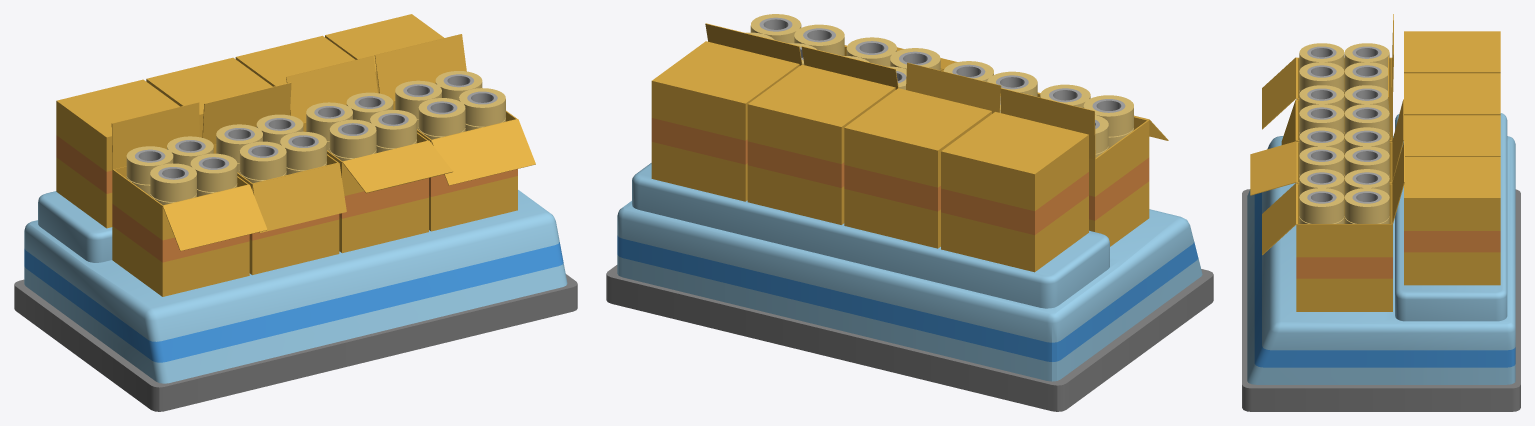
Rendered from bantlarKutu.fbx.
3 renders of one model, left to right at view 1: azimuth 30°, elevation 25°; view 2: azimuth 150°, elevation 25°; view 3: azimuth 270°, elevation 25°, orthographic. The views are drawn at different scales.
Parts seen in each view (by area): view 1: Cube, kutu.005, kutu.007, kutu.003, sagKapak.005, sagKapak.006, sagKapak.008, kutu.008, kutu.006, solKapak.008, sagKapak.007, solKapak.007 (+18 smaller); view 2: Cube, kutu.003, kutu.002, kutu.001, kutu.004, kutu.005, solKapak.006, solKapak.003, solKapak.002, solKapak.005, solKapak.004, solKapak.001 (+10 smaller); view 3: Cube, kutu.008, kutu.004, bant.016, bant.017, solKapak.003, sagKapak.003, sagKapak.002, solKapak.002, solKapak.004, sagKapak.004, solKapak.001 (+17 smaller).
Part boxes in pixels (bbox=[...]): Cube: bbox=[14, 190, 577, 411]; kutu.005: bbox=[112, 166, 249, 296]; kutu.007: bbox=[303, 122, 428, 253]; kutu.003: bbox=[56, 101, 112, 228]; sagKapak.005: bbox=[162, 184, 267, 251]; sagKapak.006: bbox=[252, 163, 346, 232]; sagKapak.008: bbox=[431, 119, 535, 185]; kutu.008: bbox=[393, 100, 517, 231]; kutu.006: bbox=[213, 144, 339, 274]; solKapak.008: bbox=[374, 34, 466, 100]; sagKapak.007: bbox=[342, 140, 452, 193]; solKapak.007: bbox=[286, 56, 377, 122]; Cube: bbox=[606, 163, 1213, 411]; kutu.003: bbox=[941, 129, 1088, 272]; kutu.002: bbox=[747, 88, 895, 224]; kutu.001: bbox=[844, 111, 991, 248]; kutu.004: bbox=[651, 64, 799, 201]; kutu.005: bbox=[1089, 116, 1149, 246]; solKapak.006: bbox=[906, 62, 1001, 113]; solKapak.003: bbox=[652, 61, 771, 104]; solKapak.002: bbox=[748, 84, 868, 127]; solKapak.005: bbox=[1000, 88, 1095, 159]; solKapak.004: bbox=[942, 131, 1061, 174]; solKapak.001: bbox=[844, 108, 964, 150]; Cube: bbox=[1242, 113, 1520, 411]; kutu.008: bbox=[1296, 183, 1392, 311]; kutu.004: bbox=[1404, 190, 1500, 285]; bant.016: bbox=[1299, 169, 1344, 223]; bant.017: bbox=[1344, 169, 1389, 223]; solKapak.003: bbox=[1452, 157, 1500, 198]; sagKapak.003: bbox=[1404, 157, 1452, 198]; sagKapak.002: bbox=[1404, 115, 1452, 156]; solKapak.002: bbox=[1452, 115, 1500, 156]; solKapak.004: bbox=[1452, 31, 1500, 72]; sagKapak.004: bbox=[1404, 31, 1452, 72]; solKapak.001: bbox=[1452, 73, 1500, 114].
Size of the model in its own units: 979 by 491 by 578.
